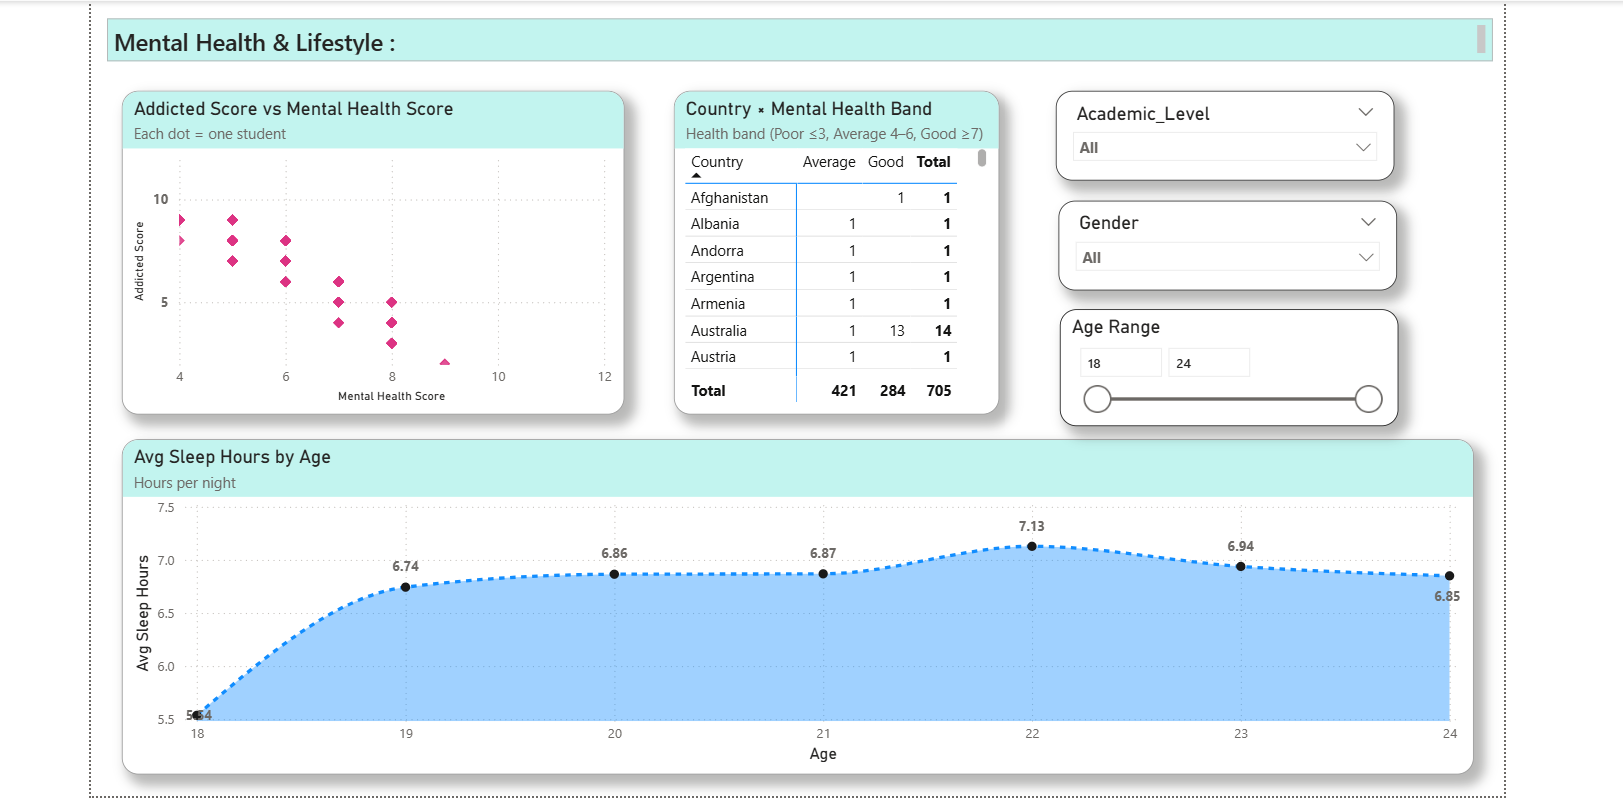

The page's visual inventory and layout, read from the dashboard file:
{"tool":"powerbi","page":{"name":"Mental Health & Lifestyle ","canvas":[1280,720],"ordinal":1},"visuals":[{"type":"pivotTable","fields":{"Rows":["Student Details.Country"],"Values":["Student Details.Total Students"],"Columns":["Student Details.Health Band"]},"box":[724.6,397.8,301.4,304.1],"z":0},{"type":"scatterChart","title":"Addicted Score vs Mental Health Score","fields":{"X":["Sum(Student Details.Mental_Health_Score)"],"Y":["Sum(Student Details.Addicted_Score)"],"Category":["Student Details.Student_ID"]},"box":[28.1,81.7,455.4,293.3],"z":1000},{"type":"lineChart","fields":{"Y":["Student Details.Avg Sleep Hours"],"Category":["Student Details.Age"]},"box":[28.1,396.5,1224.3,304.1],"z":2000},{"type":"pivotTable","title":"Country × Mental Health Band","fields":{"Rows":["Student Details.Country"],"Columns":["Student Details.Health Band"],"Values":["Student Details.Total Students"]},"box":[527.7,81.7,294.7,293.3],"z":3000},{"type":"slicer","fields":{"Values":["Student Details.Gender"]},"box":[876,180.8,306.7,81.7],"z":4000},{"type":"slicer","fields":{"Values":["Student Details.Academic_Level"]},"box":[873.3,81.7,306.7,81.7],"z":5000},{"type":"slicer","title":"Age Range","fields":{"Values":["Student Details.Age"]},"box":[877.3,278.6,306.7,105.8],"z":6000},{"type":"textbox","box":[14.8,16.2,1254.9,39],"z":7000}]}

Visuals, with their boxes on the page's 1280x720 design canvas (x1, y1, x2, y2). These are canvas units, not pixel positions in the 1623x800 screenshot, which may show the page scaled, cropped or inside an application window:
pivotTable - Student Details.Country x Student Details.Total Students: {"x1": 725, "y1": 398, "x2": 1026, "y2": 702}
"Addicted Score vs Mental Health Score" scatterChart: {"x1": 28, "y1": 82, "x2": 484, "y2": 375}
lineChart - Student Details.Avg Sleep Hours x Student Details.Age: {"x1": 28, "y1": 396, "x2": 1252, "y2": 701}
"Country × Mental Health Band" pivotTable: {"x1": 528, "y1": 82, "x2": 822, "y2": 375}
slicer - Student Details.Gender: {"x1": 876, "y1": 181, "x2": 1183, "y2": 262}
slicer - Student Details.Academic_Level: {"x1": 873, "y1": 82, "x2": 1180, "y2": 163}
"Age Range" slicer: {"x1": 877, "y1": 279, "x2": 1184, "y2": 384}
textbox: {"x1": 15, "y1": 16, "x2": 1270, "y2": 55}
